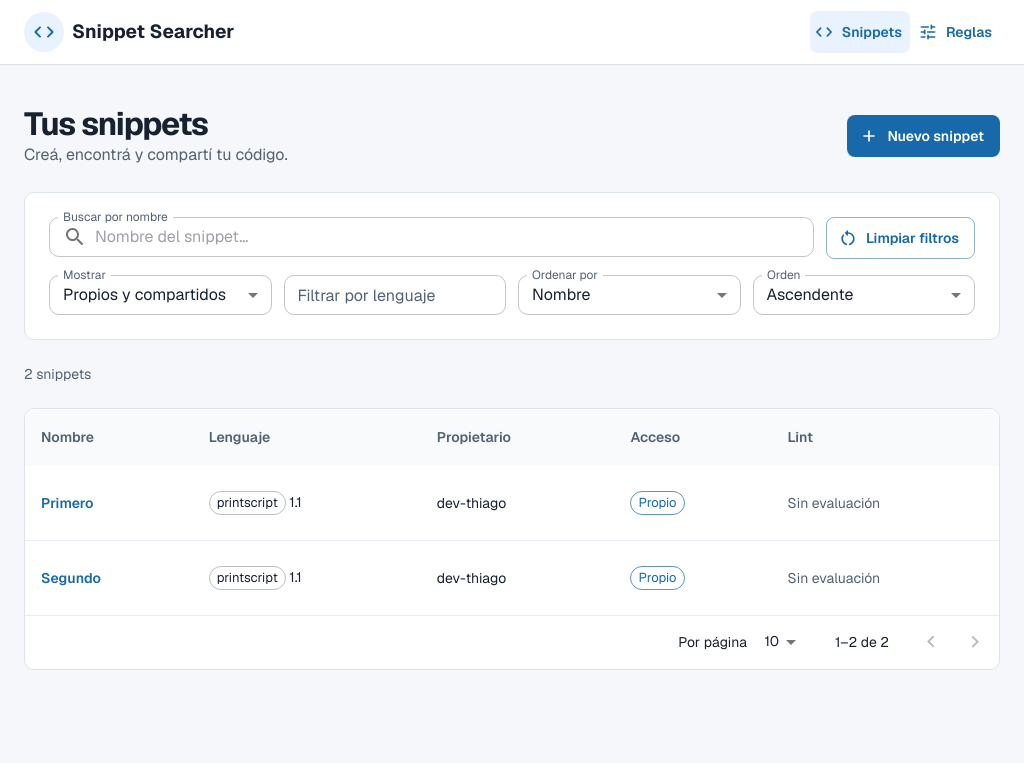
Scenario: SNI-51 execution panels › shows a saved test result and exact outputs in its existing modal
What coordinates should you click on to do the following:
click the button "Primero"
I would click on:
 (68, 503)
Its box is [41,482,94,524].
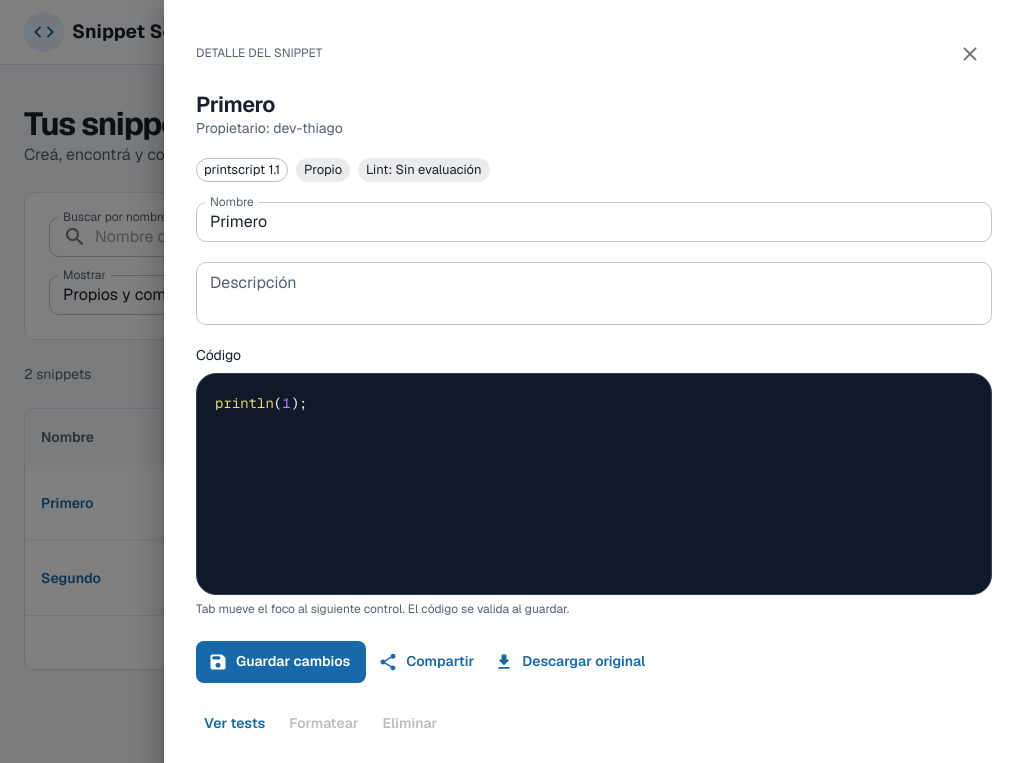
What coordinates should you click on to do the following:
click the button "Ver tests"
I would click on:
 (235, 724)
Its box is [196,703,273,745].
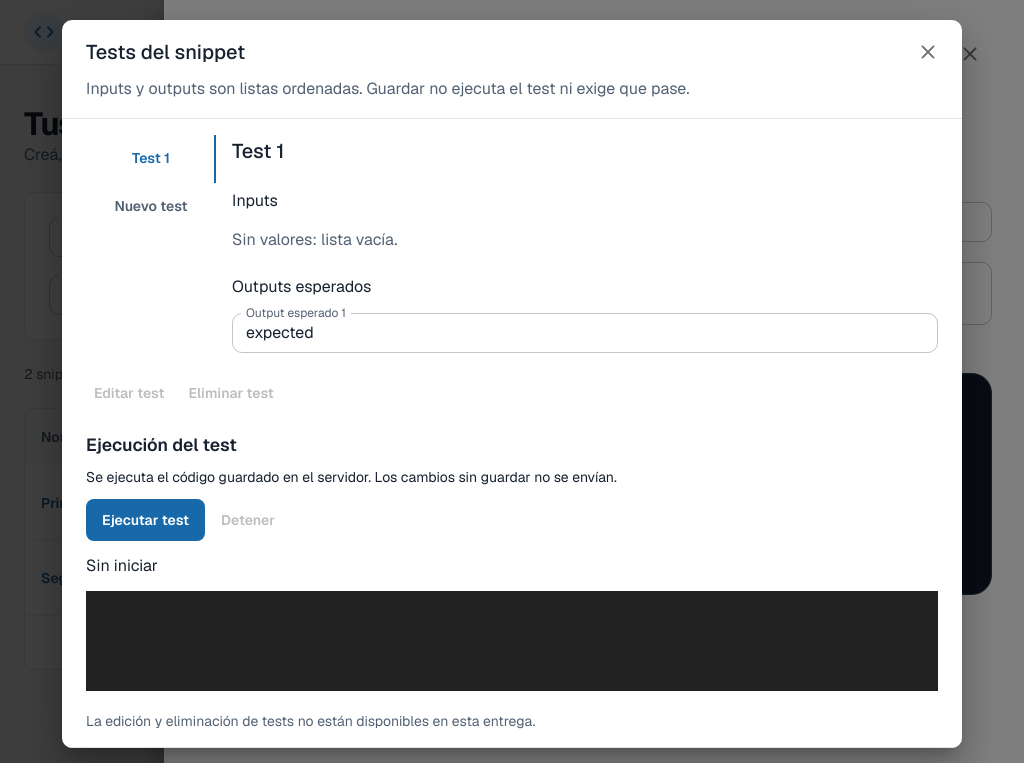
What coordinates should you click on to do the following:
click the button "Ejecutar test"
I would click on:
 (146, 520)
Its box is [86,499,205,541].
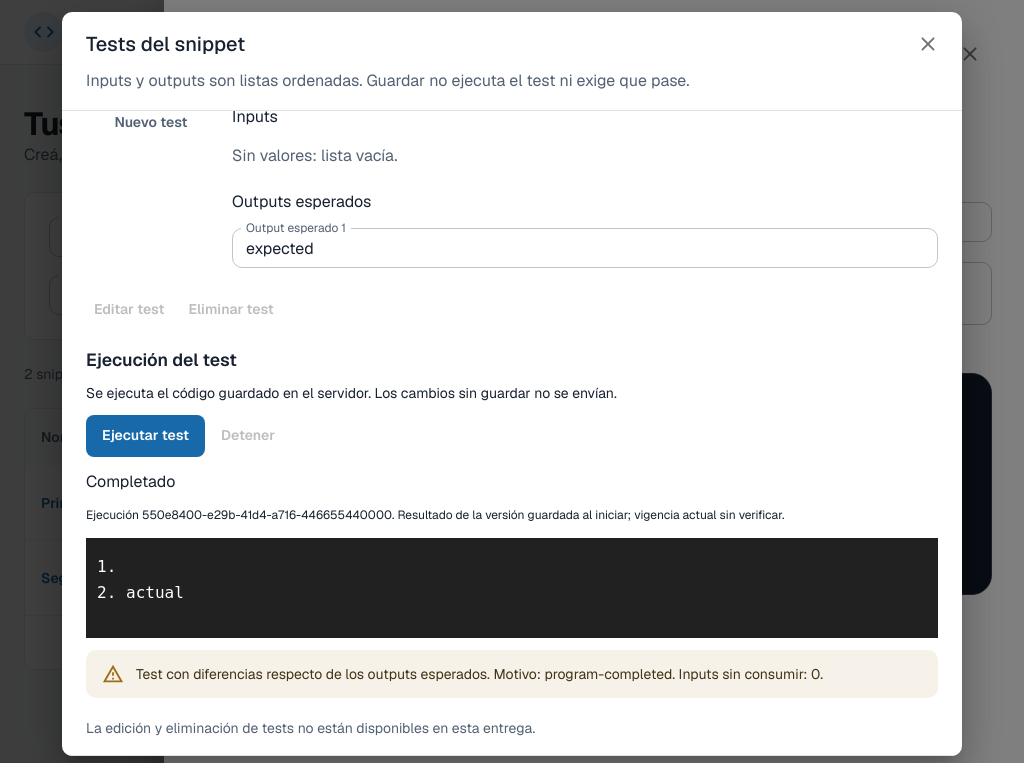
Result: the text "Test con diferencias respecto de los outputs esperados." is shown at [136,665,490,683]
Result: the list item "actual" is shown at [126,583,193,602]
